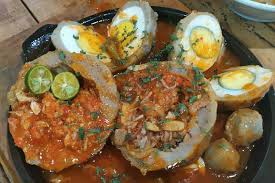bakso: (7, 9, 275, 171)
